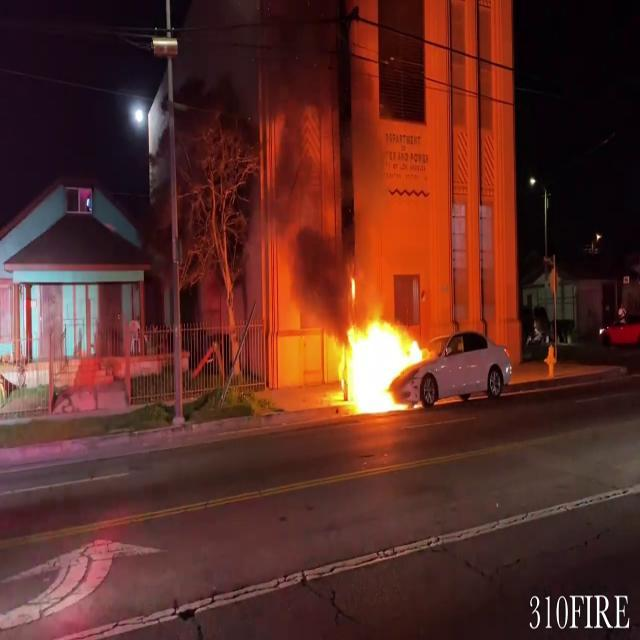Fire: (333, 302, 426, 419)
Smoke: (253, 0, 383, 253)
